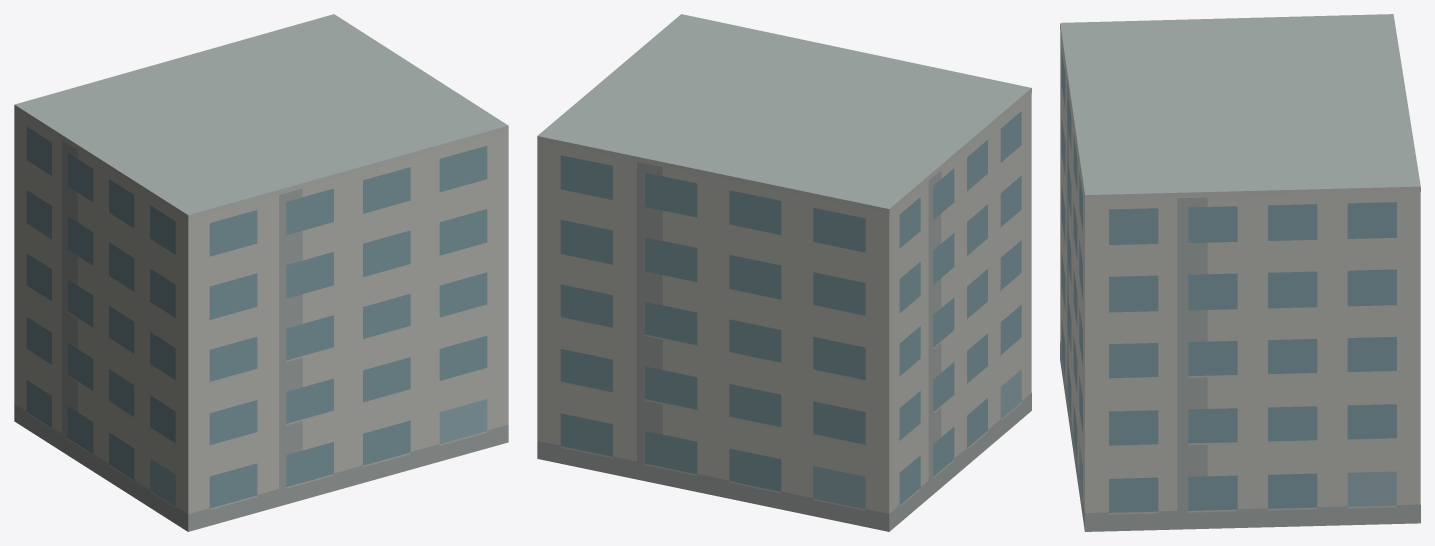
The model's file is survey-upis-33032074.glb.
3 views of the same model, side by side, from view 1: azimuth 30°, elevation 25°; view 2: azimuth 150°, elevation 25°; view 3: azimuth 270°, elevation 25° (orthographic). The views are drawn at different scales.
Visible parts, largest first — view 1: survey-upis-33032074.tmp; view 2: survey-upis-33032074.tmp; view 3: survey-upis-33032074.tmp.
Boxes of the visible parts, box(x1,y1,x2,y2) form: survey-upis-33032074.tmp: box(14, 14, 508, 531); survey-upis-33032074.tmp: box(537, 14, 1031, 531); survey-upis-33032074.tmp: box(1060, 14, 1420, 531).
Bounding box in the file's own units: 17.08 × 14.8 × 14.38.
